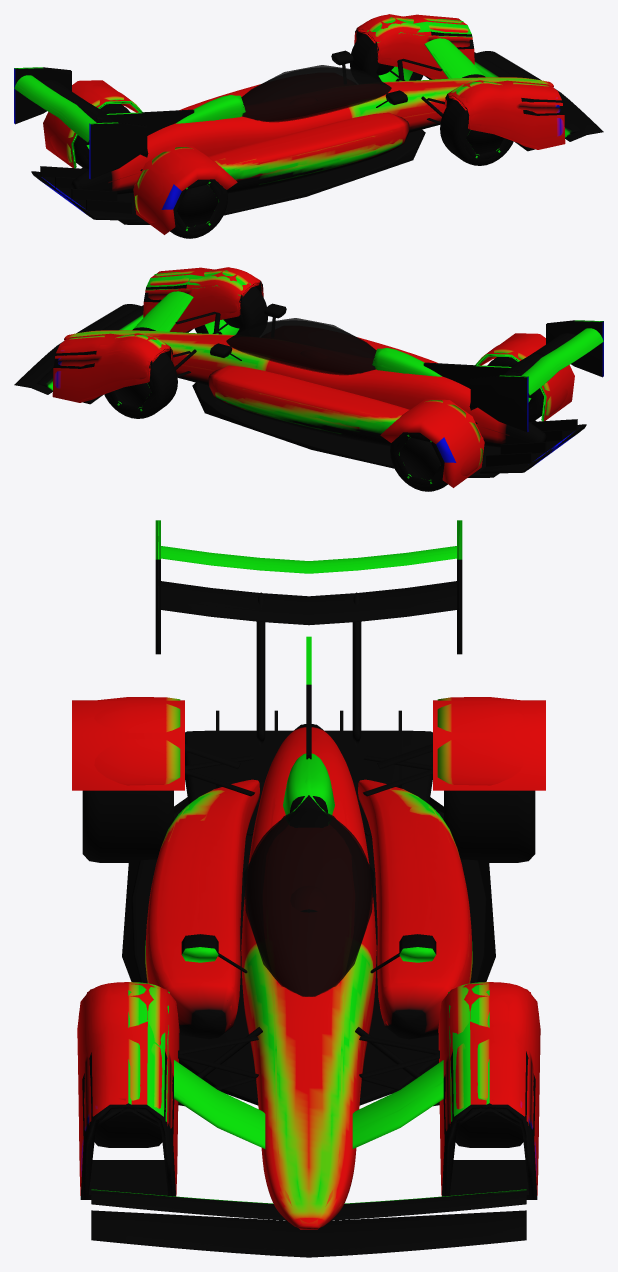
Rendered from falcon.glb.
3 renders of one model, top to bottom at view 1: azimuth 30°, elevation 25°; view 2: azimuth 150°, elevation 25°; view 3: azimuth 270°, elevation 25°, orthographic. The views are drawn at different scales.
Parts seen in each view (by area): view 1: body_L0, body_L1, body_L2, glass_L0, glass_L1, glass_L2, wheel_RR_L2, wheel_FR_L0, wheel_FR_L2, wheel_FL_L0, wheel_RR_L0, wheel_RL_L0 (+3 smaller); view 2: body_L0, body_L1, body_L2, glass_L0, glass_L1, glass_L2, wheel_RL_L2, wheel_FL_L0, wheel_FL_L2, wheel_FR_L0, wheel_RL_L0, wheel_RR_L0 (+2 smaller); view 3: body_L0, body_L1, body_L2, glass_L0, glass_L2, glass_L1, wheel_RL_L0, wheel_RR_L0, wheel_FL_L0, wheel_FR_L0.
Boxes of the visible parts, x1,y1,x2,y2 form: body_L0: (14, 15, 603, 222); body_L1: (15, 14, 603, 217); body_L2: (16, 17, 599, 234); glass_L0: (241, 67, 390, 122); glass_L1: (242, 68, 390, 121); glass_L2: (241, 65, 391, 121); wheel_RR_L2: (174, 180, 225, 237); wheel_FR_L0: (440, 99, 513, 165); wheel_FR_L2: (461, 126, 509, 164); wheel_FL_L0: (349, 33, 423, 80); wheel_RR_L0: (170, 179, 227, 238); wheel_RL_L0: (74, 104, 130, 168); body_L0: (14, 268, 603, 475); body_L1: (15, 267, 602, 467); body_L2: (15, 270, 601, 487); glass_L0: (226, 320, 376, 375); glass_L1: (227, 321, 375, 374); glass_L2: (226, 318, 376, 373); wheel_RL_L2: (392, 432, 443, 490); wheel_FL_L0: (104, 352, 177, 418); wheel_FL_L2: (108, 379, 157, 417); wheel_FR_L0: (194, 286, 268, 333); wheel_RL_L0: (390, 432, 447, 491); wheel_RR_L0: (487, 357, 543, 421); body_L0: (78, 520, 539, 1257); body_L1: (77, 548, 540, 1252); body_L2: (72, 551, 545, 1246); glass_L0: (246, 807, 371, 996); glass_L2: (243, 811, 374, 996); glass_L1: (249, 809, 368, 993); wheel_RL_L0: (444, 790, 535, 862); wheel_RR_L0: (82, 790, 173, 862); wheel_FL_L0: (455, 1111, 523, 1147); wheel_FR_L0: (94, 1111, 162, 1147).
Bounding box in the file's own units: 5.41 × 1.26 × 2.18.
